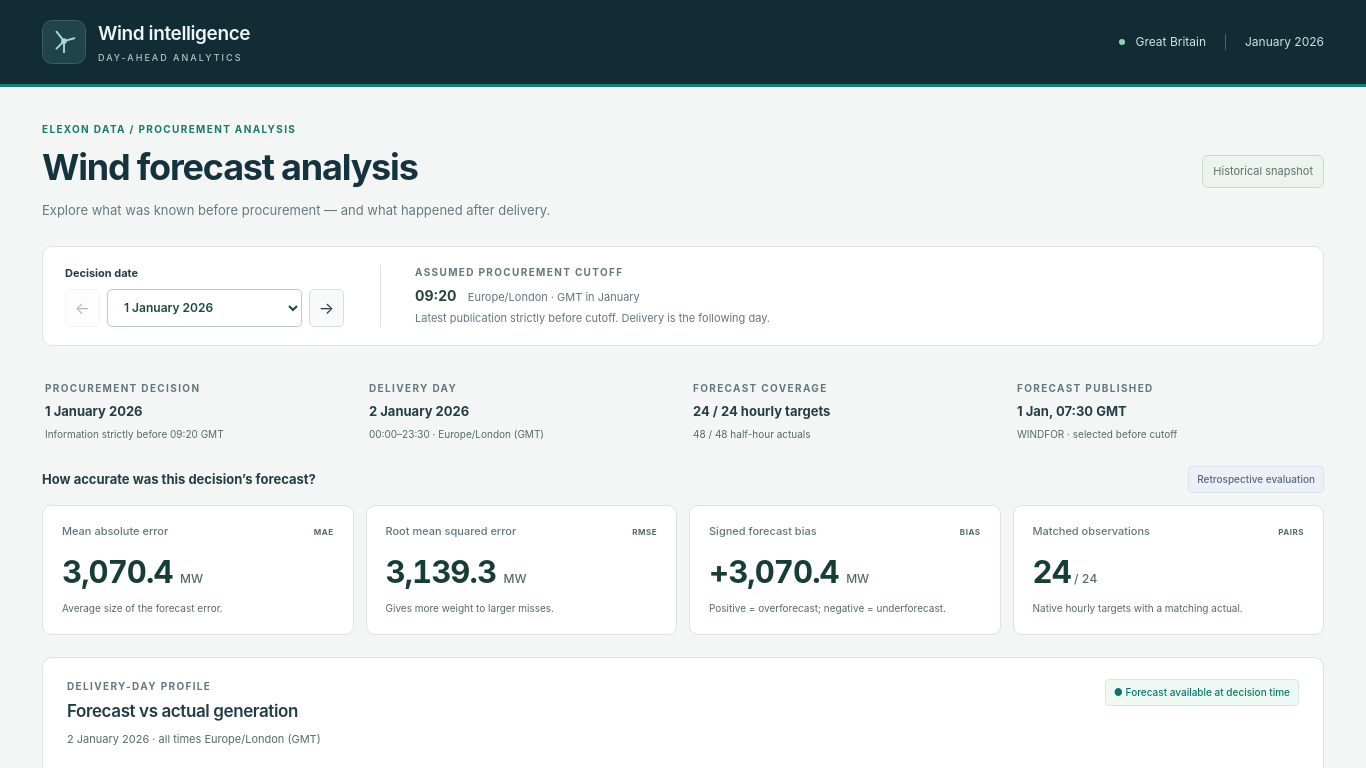
dashboard with recorded real API responses › does not leave old metrics visible after date-change failure
Check: the element with test id "metric-mae" is shown, box 62,553 -> 203,590
Select "2 January 2026" in the dropdown at {"x": 204, "y": 308}, box 107,289 -> 302,327
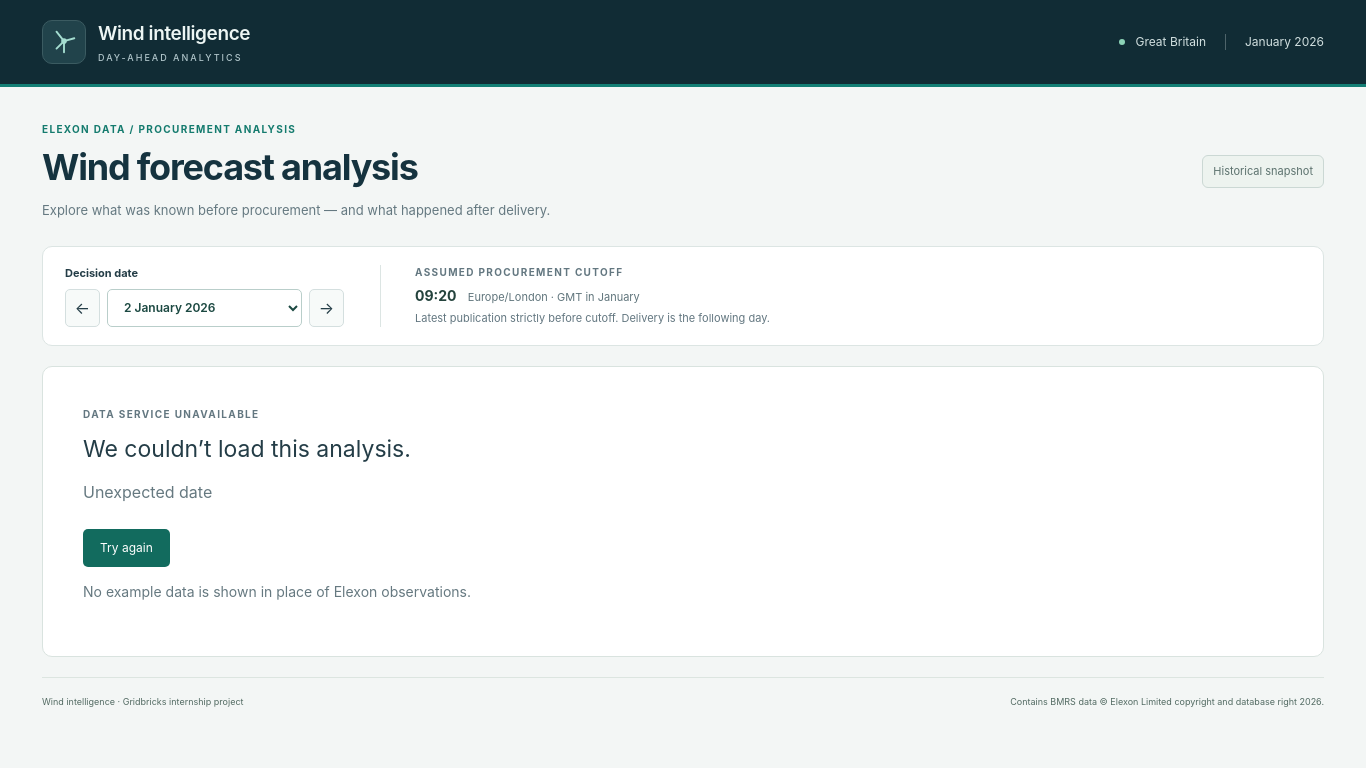
Check: the element with test id "metric-mae" is gone
Check: the message shows "Unexpected date", box 83,482 -> 212,502
